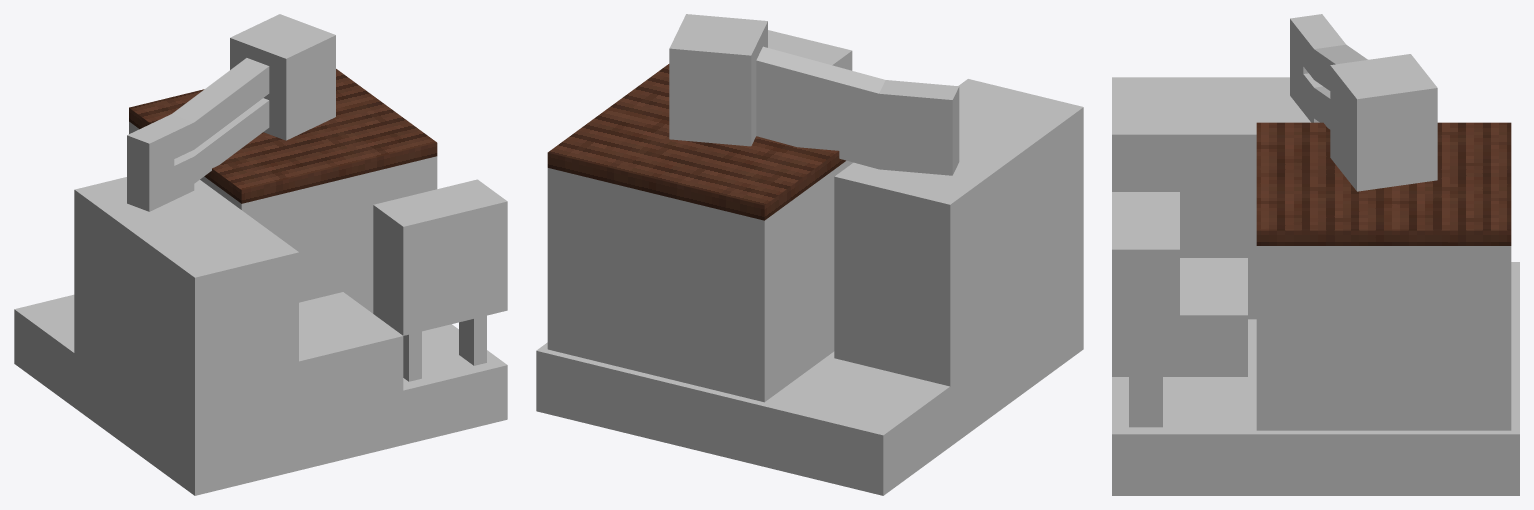
Rendered from industrial_maturation_vessel.obj.
3 views of the same model, side by side, from view 1: azimuth 30°, elevation 25°; view 2: azimuth 150°, elevation 25°; view 3: azimuth 270°, elevation 25° (orthographic). The views are drawn at different scales.
Visible parts, largest first — view 1: Mixer_retained_vessel,_motor,_frame_and_interfaces, Treated_wood_lid___right, Treated_wood_lid___left, Treated_wood_lid___rear, Heater___solid_cuboid___power-box_UV; view 2: Mixer_retained_vessel,_motor,_frame_and_interfaces, Heater___solid_cuboid___power-box_UV, Treated_wood_lid___left, Treated_wood_lid___right, Treated_wood_lid___front; view 3: Mixer_retained_vessel,_motor,_frame_and_interfaces, Heater___solid_cuboid___power-box_UV, Treated_wood_lid___right, Treated_wood_lid___left, Treated_wood_lid___rear, Treated_wood_lid___front.
Part boxes in pixels (box(x1,y1,x2,y2)): Mixer_retained_vessel,_motor,_frame_and_interfaces: box(14, 14, 507, 495); Treated_wood_lid___right: box(308, 69, 437, 176); Treated_wood_lid___left: box(129, 89, 326, 203); Treated_wood_lid___rear: box(287, 130, 352, 182); Heater___solid_cuboid___power-box_UV: box(299, 281, 373, 313); Mixer_retained_vessel,_motor,_frame_and_interfaces: box(536, 14, 1083, 495); Heater___solid_cuboid___power-box_UV: box(547, 289, 834, 402); Treated_wood_lid___left: box(670, 136, 845, 220); Treated_wood_lid___right: box(547, 64, 688, 190); Treated_wood_lid___front: box(641, 141, 722, 197); Mixer_retained_vessel,_motor,_frame_and_interfaces: box(1112, 14, 1519, 495); Heater___solid_cuboid___power-box_UV: box(1256, 369, 1511, 430); Treated_wood_lid___right: box(1256, 184, 1511, 245); Treated_wood_lid___left: box(1256, 122, 1511, 169); Treated_wood_lid___rear: box(1256, 169, 1350, 183); Treated_wood_lid___front: box(1413, 169, 1511, 183).
Bounding box in the file's own units: 3 × 2.94 × 3.
